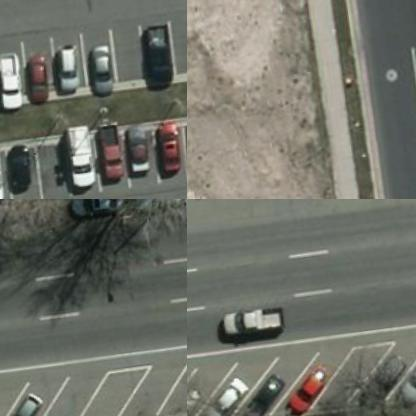car: (359, 354, 413, 415), (282, 366, 336, 415), (219, 304, 288, 340), (241, 370, 295, 415), (92, 118, 126, 185), (62, 130, 96, 197), (196, 374, 250, 415), (152, 119, 185, 179), (80, 44, 115, 96), (19, 54, 53, 106), (51, 46, 85, 98), (140, 30, 174, 82), (66, 199, 126, 228), (5, 145, 34, 198), (0, 54, 22, 116), (0, 390, 51, 415), (130, 199, 186, 219), (398, 344, 415, 409), (0, 144, 9, 198)
